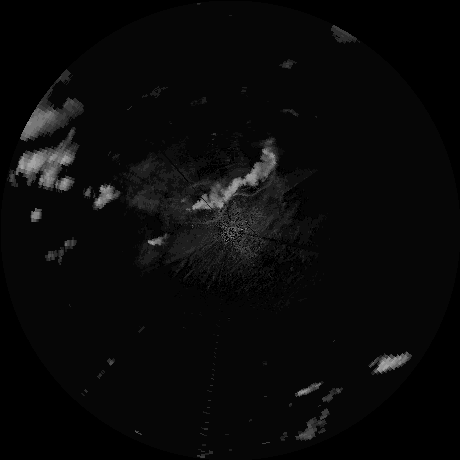frontgust: (232, 173, 277, 197), (206, 194, 233, 224)
